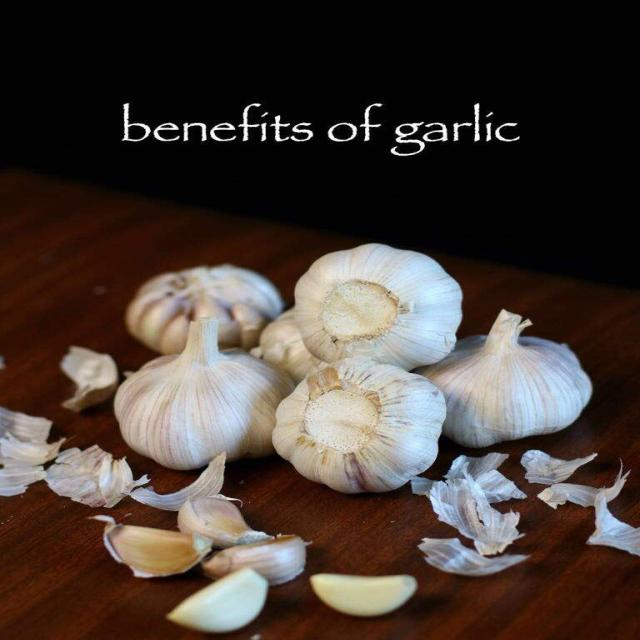garlic: (113, 316, 292, 469), (418, 309, 591, 446), (272, 358, 444, 492), (293, 243, 461, 369), (125, 263, 282, 353), (88, 514, 210, 577), (166, 567, 267, 632), (413, 535, 531, 578), (309, 573, 416, 616)
